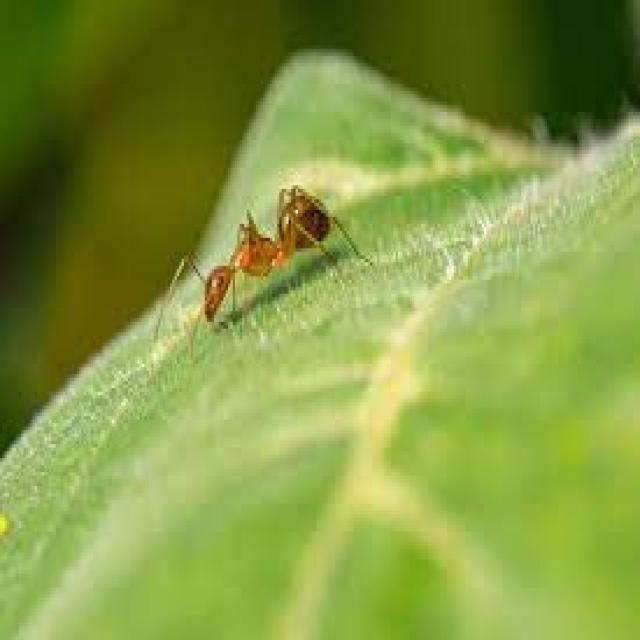ants: (184, 191, 332, 313)
